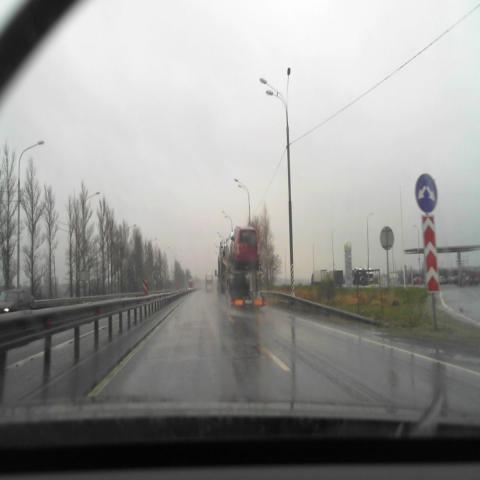4_2_3: (415, 174, 437, 213)
